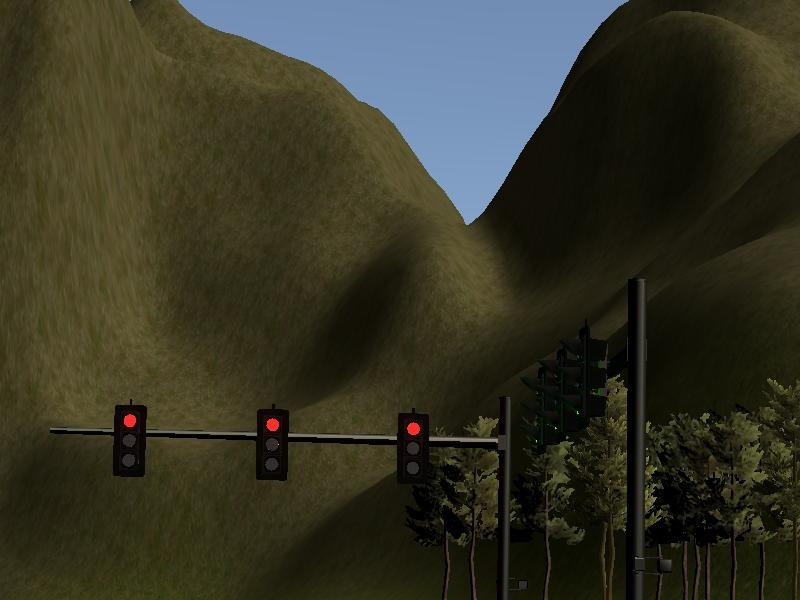red: (103, 393, 157, 485), (386, 399, 442, 487), (246, 396, 296, 487)
